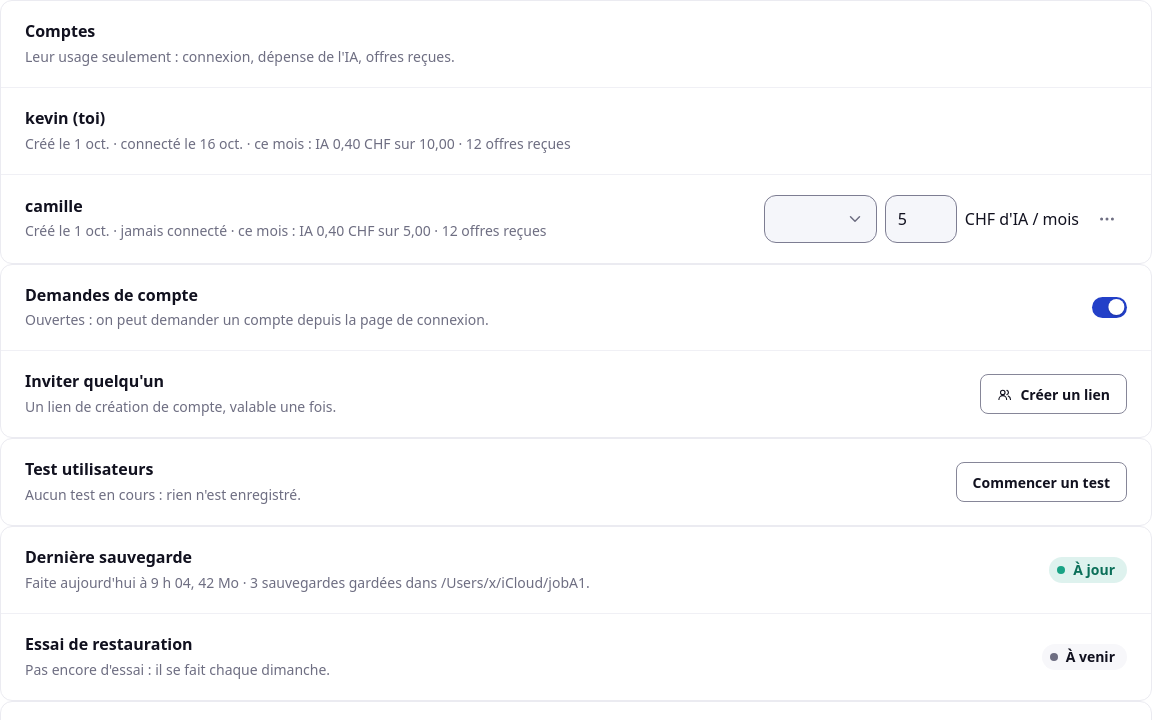
Scenario: Plateforme, demandes de compte (docs/102) › l'interrupteur enregistre les demandes ouvertes ou fermées
Step 1. Click the switch with test id "signup-open" → coordinates (1109, 308), box [1092,297,1127,318]
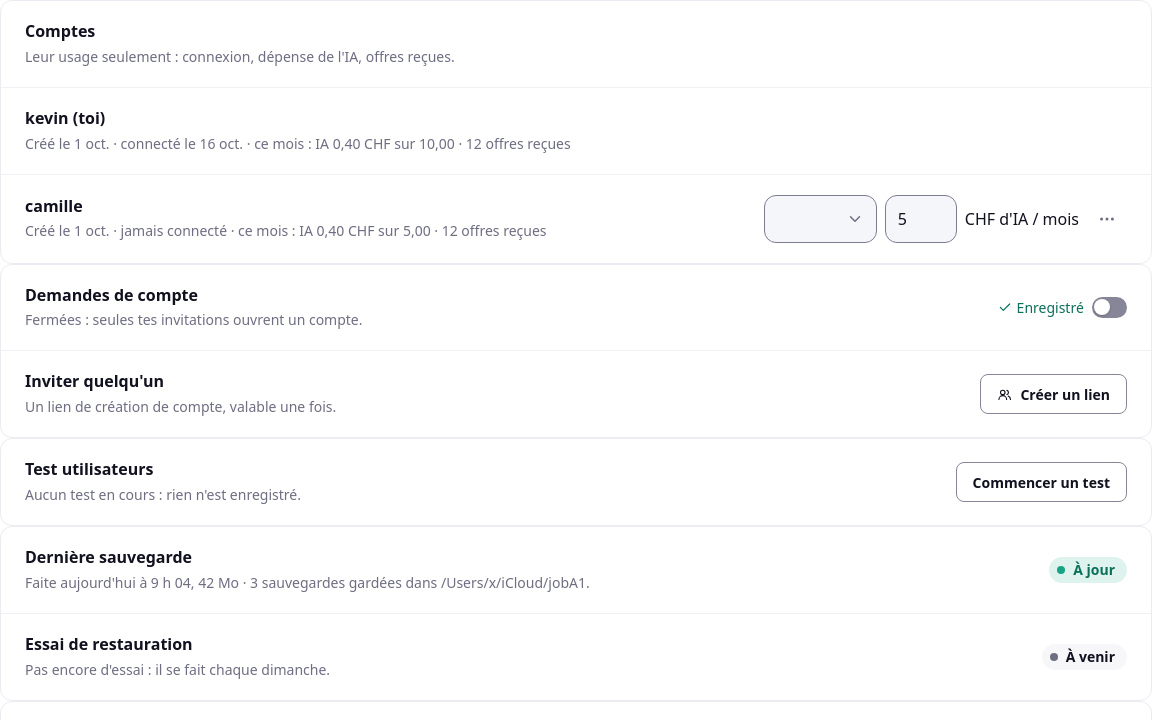
Expected: the switch with test id "signup-open" is not checked, [1092,297,1127,318]
Expected: the text "Fermées : seules tes invitations ouvrent un compte." is shown, [25,310,362,329]
Expected: the message with test id "setting-saved" reads "Enregistré", [1017,298,1084,317]
